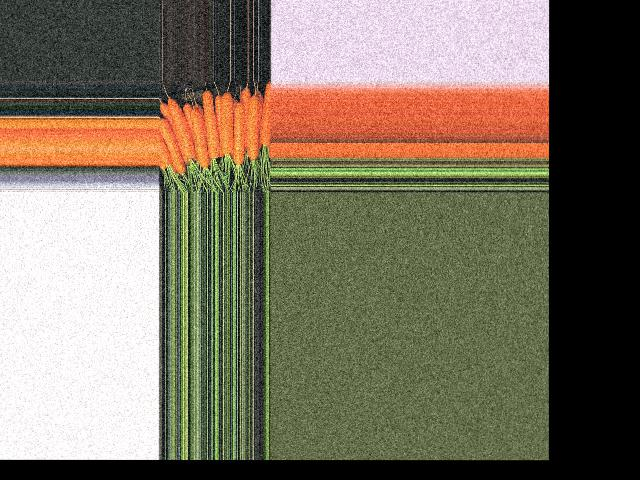carrot: (167, 112, 179, 173)
